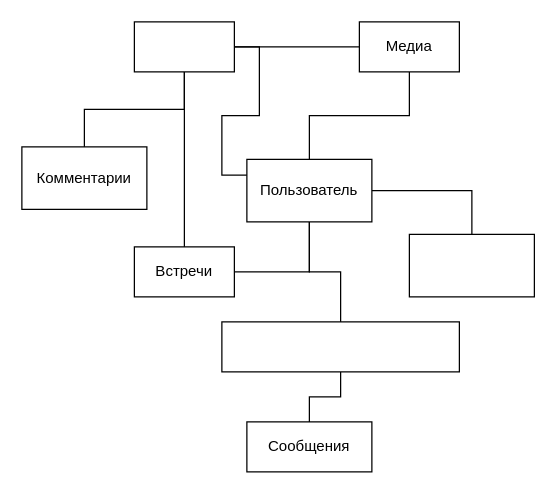
Some shapes in this 556 by 494 pixel diagram are drawn without their labels. The shapes that lost their labels are listed below. From the top down, each one's centre as x and y in pixels, then its label:
At point (183, 46): "Группы".
At point (471, 265): "Токены".
At point (340, 346): "Пользователь_сообщения".
